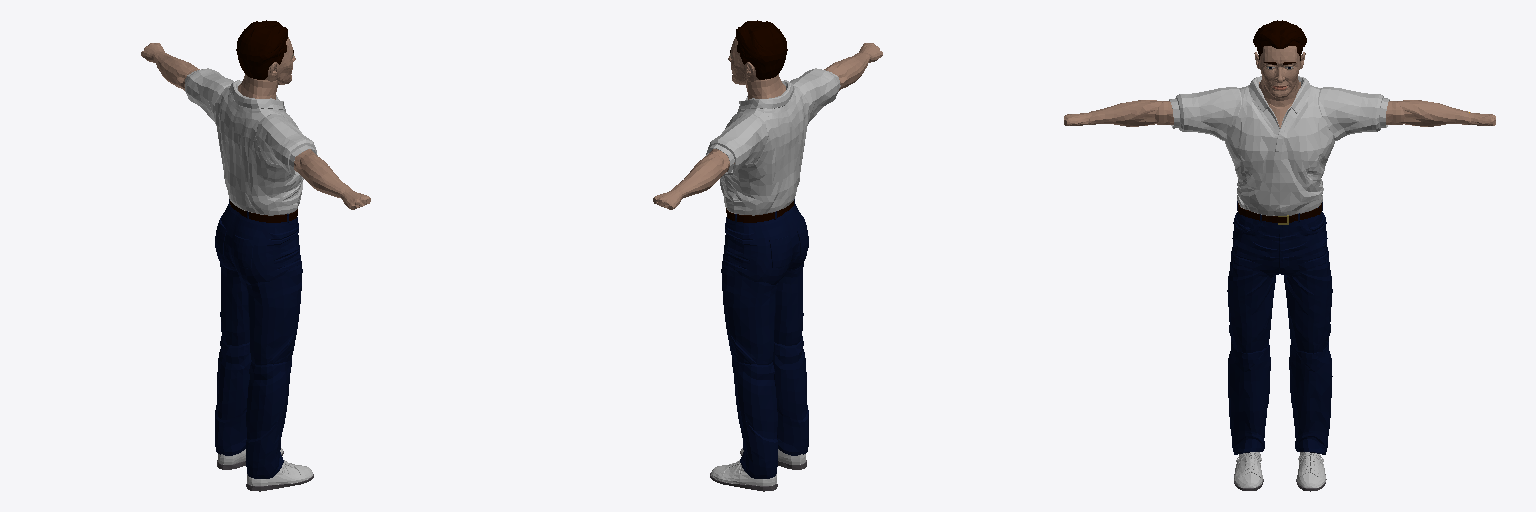
--- Render facts (derived) ---
3 views of the same robot in one strip: view 1: azimuth 30°, elevation 25°; view 2: azimuth 150°, elevation 25°; view 3: azimuth 270°, elevation 25° (orthographic).
Model HUMAN with 34 links and 33 joints (32 revolute, 1 fixed), rooted at base_link, posed every joint at zero.
Links seen in each view (by area): view 1: TorsoLink, HipsLink, RShinLink, RLegLink, LShinLink, HeadLink, RArmLink, LLegLink, LArmLink, RForearmLink, RAnkleLink, LForearmLink; view 2: TorsoLink, HipsLink, LShinLink, LLegLink, RShinLink, HeadLink, LArmLink, RLegLink, RArmLink, LForearmLink, LAnkleLink, RForearmLink; view 3: TorsoLink, HipsLink, RShinLink, LShinLink, LLegLink, RLegLink, HeadLink, RArmLink, LArmLink, LForearmLink, RForearmLink, LAnkleLink (+1 smaller).
Boxes of the visible links, x1,y1,x2,y2 form: TorsoLink: (214, 74, 303, 215); HipsLink: (215, 199, 301, 284); RShinLink: (246, 357, 291, 478); RLegLink: (245, 265, 302, 364); LShinLink: (215, 336, 251, 455); HeadLink: (236, 20, 295, 84); RArmLink: (255, 114, 317, 175); LLegLink: (220, 263, 249, 345); LArmLink: (185, 68, 233, 123); RForearmLink: (296, 153, 351, 198); RAnkleLink: (246, 460, 313, 491); LForearmLink: (153, 52, 196, 90); TorsoLink: (720, 74, 809, 215); HipsLink: (722, 199, 808, 284); LShinLink: (732, 357, 777, 478); LLegLink: (721, 265, 778, 364); RShinLink: (772, 336, 808, 455); HeadLink: (728, 20, 787, 84); LArmLink: (706, 114, 768, 174); RLegLink: (774, 263, 803, 345); RArmLink: (790, 68, 840, 123); LForearmLink: (672, 153, 727, 198); LAnkleLink: (710, 460, 777, 491); RForearmLink: (827, 52, 870, 90); TorsoLink: (1225, 76, 1334, 215); HipsLink: (1231, 201, 1328, 277); RShinLink: (1228, 342, 1270, 454); LShinLink: (1289, 342, 1332, 454); LLegLink: (1284, 255, 1332, 353); RLegLink: (1227, 255, 1275, 353); HeadLink: (1253, 20, 1306, 97); RArmLink: (1169, 87, 1241, 140); LArmLink: (1318, 87, 1389, 140); LForearmLink: (1397, 100, 1470, 126); RForearmLink: (1089, 100, 1162, 126); LAnkleLink: (1296, 452, 1326, 491).
Bounding box of the posed robot: 0.2779 × 1.47 × 1.69 m (x, y, z).
Meshes: 17 distinct files referenced, 17 mesh visuals loaded (17 Collada DAE).

robot.urdf — HUMAN:
<?xml version="1.0" ?>
<robot name="HUMAN" xmlns:xacro="http://ros.org/wiki/xacro">
  
  <link name="base_link"/>

  <joint name="base" type="fixed">
    <parent link="base_link"/>
    <child link="HipsLink"/>
    <origin rpy="0 0 0" xyz="0 0 0.987"/>
  </joint>

  <!-- Body Links -->
  <link name="HipsLink">
    <inertial>
      <origin rpy="0 0 0" xyz="-0.0232 0.0 -0.1192"/>
      <mass value="20.9238"/>
      <inertia ixx="-0.3225" ixy="-0.0" ixz="-0.0" iyy="0.0" iyz="0.2362" izz="0.0"/>
    </inertial>
    <visual>
      <origin rpy="0 0 0" xyz="0 0 0"/>
      <geometry>
        <mesh filename="package://human_description/meshes/HipsLinkFull.dae"/>
      </geometry>
    </visual>
    <collision>
      <origin rpy="0 0 0" xyz="0 0 0"/>
      <geometry>
        <mesh filename="package://human_description/meshes/HipsLinkFull.dae"/>
      </geometry>
    </collision>
  </link>

  <link name="TorsoLink">
    <inertial>
      <origin rpy="0 0 0" xyz="-0.1334 0.1949 0.4701"/>
      <mass value="10.7790"/>
      <inertia ixx="-0.3481" ixy="-0.0" ixz="-0.0" iyy="0.0" iyz="0.2709" izz="0.0"/>
    </inertial>
    <visual>
      <origin rpy="0 0 0" xyz="0 0 0"/>
      <geometry>
        <mesh filename="package://human_description/meshes/TorsoLinkFull.dae"/>
      </geometry>
    </visual>
    <collision>
      <origin rpy="0 0 0" xyz="0 0 0"/>
      <geometry>
        <mesh filename="package://human_description/meshes/TorsoLinkFull.dae"/>
      </geometry>
    </collision>
  </link>

  <link name="HeadLink">
    <inertial>
      <origin rpy="0 0 0" xyz="0.0459 0.0133 0.0433"/>
      <mass value="4.7372"/>
      <inertia ixx="-0.1891" ixy="-0.0" ixz="-0.0" iyy="0.0" iyz="0.1891" izz="0.0"/>
    </inertial>
    <visual>
      <origin rpy="0 0 0" xyz="0 0 0"/>
      <geometry>
        <mesh filename="package://human_description/meshes/HeadLinkFull.dae"/>
      </geometry>
    </visual>
    <collision>
      <origin rpy="0 0 0" xyz="0 0 0"/>
      <geometry>
        <mesh filename="package://human_description/meshes/HeadLinkFull.dae"/>
      </geometry>
    </collision>
  </link>

  <link name="LArmLink">
    <inertial>
      <origin rpy="0 0 0" xyz="-0.0 0.1328 0.0"/>
      <mass value="1.96"/>
      <inertia ixx="-0.3475" ixy="-0.0" ixz="-0.0" iyy="0.0" iyz="0.6719" izz="0.0"/>
    </inertial>
    <visual>
      <origin rpy="0 0 0" xyz="0 0 0"/>
      <geometry>
        <mesh filename="package://human_description/meshes/LArmLinkFull.dae"/>
      </geometry>
    </visual>
    <collision>
      <origin rpy="0 0 0" xyz="0 0 0"/>
      <geometry>
        <mesh filename="package://human_description/meshes/LArmLinkFull.dae"/>
      </geometry>
    </collision>
  </link>

  <link name="LElbowLink">
    <inertial>
      <origin rpy="0 0 0" xyz="0.000513 0.034528 -0.000934"/>
      <mass value="0.25"/>
      <inertia ixx="-5.9e-05" ixy="-0.0" ixz="-0.0" iyy="0.0" iyz="8e-05" izz="0.0"/>
    </inertial>
    <visual>
      <origin rpy="0 0 0" xyz="0 0 0"/>
      <geometry>
        <mesh filename="package://human_description/meshes/LElbowLink.dae"/>
      </geometry>
    </visual>
    <collision>
      <origin rpy="0 0 0" xyz="0 0 0"/>
      <geometry>
        <mesh filename="package://human_description/meshes/LElbowLink.dae"/>
      </geometry>
    </collision>
  </link>

  <link name="LForearmLink">
    <inertial>
      <origin rpy="0 0 0" xyz="-0.0 0.15114 0.0"/>
      <mass value="1.18"/>
      <inertia ixx="-0.0753" ixy="-0.0" ixz="-0.0" iyy="0.0" iyz="0.1326" izz="0.0"/>
    </inertial>
    <visual>
      <origin rpy="0 0 0" xyz="0 0 0"/>
      <geometry>
        <mesh filename="package://human_description/meshes/LForearmLink.dae"/>
      </geometry>
    </visual>
    <collision>
      <origin rpy="0 0 0" xyz="0 0 0"/>
      <geometry>
        <mesh filename="package://human_description/meshes/LForearmLink.dae"/>
      </geometry>
    </collision>
  </link>

  <link name="LHandLink">
    <inertial>
      <origin rpy="0 0 0" xyz="0.0139 0.042 -0.0128"/>
      <mass value="0.272"/>
      <inertia ixx="-0.00029946" ixy="-0.0" ixz="-0.0" iyy="0.0" iyz="0.00019118" izz="0.0"/>
    </inertial>
    <visual>
      <origin rpy="0 0 0" xyz="0 0 0"/>
      <geometry>
        <mesh filename="package://human_description/meshes/LWrist.dae"/>
      </geometry>
    </visual>
    <collision>
      <origin rpy="0 0 0" xyz="0 0 0"/>
      <geometry>
        <mesh filename="package://human_description/meshes/LWrist.dae"/>
      </geometry>
    </collision>
  </link>

  <link name="RArmLink">
    <inertial>
      <origin rpy="0 0 0" xyz="-0.0 -0.1328 0.0"/>
      <mass value="1.96"/>
      <inertia ixx="-0.3475" ixy="-0.0" ixz="-0.0" iyy="0.0" iyz="0.6719" izz="0.0"/>
    </inertial>
    <visual>
      <origin rpy="0 0 0" xyz="0 0 0"/>
      <geometry>
        <mesh filename="package://human_description/meshes/RArmLinkFull.dae"/>
      </geometry>
    </visual>
    <collision>
      <origin rpy="0 0 0" xyz="0 0 0"/>
      <geometry>
        <mesh filename="package://human_description/meshes/RArmLinkFull.dae"/>
      </geometry>
    </collision>
  </link>

  <link name="RElbowLink">
    <inertial>
      <origin rpy="0 0 0" xyz="0.000513 -0.034528 -0.000934"/>
      <mass value="0.25"/>
      <inertia ixx="-5.9e-05" ixy="-0.0" ixz="-0.0" iyy="0.0" iyz="8e-05" izz="0.0"/>
    </inertial>
    <visual>
      <origin rpy="0 0 0" xyz="0 0 0"/>
      <geometry>
        <mesh filename="package://human_description/meshes/RElbowLink.dae"/>
      </geometry>
    </visual>
    <collision>
      <origin rpy="0 0 0" xyz="0 0 0"/>
      <geometry>
        <mesh filename="package://human_description/meshes/RElbowLink.dae"/>
      </geometry>
    </collision>
  </link>

  <link name="RForearmLink">
    <inertial>
      <origin rpy="0 0 0" xyz="-0.0 -0.15114 0.0"/>
      <mass value="1.18"/>
      <inertia ixx="-0.0753" ixy="-0.0" ixz="-0.0" iyy="0.0" iyz="0.1326" izz="0.0"/>
    </inertial>
    <visual>
      <origin rpy="0 0 0" xyz="0 0 0"/>
      <geometry>
        <mesh filename="package://human_description/meshes/RForearmLink.dae"/>
      </geometry>
    </visual>
    <collision>
      <origin rpy="0 0 0" xyz="0 0 0"/>
      <geometry>
        <mesh filename="package://human_description/meshes/RForearmLink.dae"/>
      </geometry>
    </collision>
  </link>

  <link name="RHandLink">
    <inertial>
      <origin rpy="0 0 0" xyz="0.0139 -0.042 -0.0128"/>
      <mass value="0.272"/>
      <inertia ixx="-0.00029946" ixy="-0.0" ixz="-0.0" iyy="0.0" iyz="0.00019118" izz="0.0"/>
    </inertial>
    <visual>
      <origin rpy="0 0 0" xyz="0 0 0"/>
      <geometry>
        <mesh filename="package://human_description/meshes/RWrist.dae"/>
      </geometry>
    </visual>
    <collision>
      <origin rpy="0 0 0" xyz="0 0 0"/>
      <geometry>
        <mesh filename="package://human_description/meshes/RWrist.dae"/>
      </geometry>
    </collision>
  </link>

  <link name="LLegLink">
    <inertial>
      <origin rpy="0 0 0" xyz="-0.0185 -0.0071 -0.178"/>
      <mass value="6.51"/>
      <inertia ixx="-0.1264" ixy="-0.0" ixz="-0.0" iyy="0.0" iyz="0.1264" izz="0.0"/>
    </inertial>
    <visual>
      <origin rpy="0 0 0" xyz="0 0 0"/>
      <geometry>
        <mesh filename="package://human_description/meshes/LLegLink.dae"/>
      </geometry>
    </visual>
    <collision>
      <origin rpy="0 0 0" xyz="0 0 0"/>
      <geometry>
        <mesh filename="package://human_description/meshes/LLegLink.dae"/>
      </geometry>
    </collision>
  </link>

  <link name="LShinLink">
    <inertial>
      <origin rpy="0 0 0" xyz="-0.0131 0.0025 0.0346"/>
      <mass value="3.095"/>
      <inertia ixx="-0.0632" ixy="-0.0" ixz="-0.0" iyy="0.0" iyz="0.0632" izz="0.0"/>
    </inertial>
    <visual>
      <origin rpy="0 0 0" xyz="0 0 0"/>
      <geometry>
        <mesh filename="package://human_description/meshes/LShinLink.dae"/>
      </geometry>
    </visual>
    <collision>
      <origin rpy="0 0 0" xyz="0 0 0"/>
      <geometry>
        <mesh filename="package://human_description/meshes/LShinLink.dae"/>
      </geometry>
    </collision>
  </link>

  <link name="LAnkleLink">
    <inertial>
      <origin rpy="0 0 0" xyz="0.0508 0.0067 -0.0646"/>
      <mass value="0.99"/>
      <inertia ixx="-0.0015" ixy="-0.0" ixz="-0.0" iyy="0.0" iyz="0.0059" izz="0.0"/>
    </inertial>
    <visual>
      <origin rpy="0 0 0" xyz="0 0 0"/>
      <geometry>
        <mesh filename="package://human_description/meshes/LAnkleLinkFull.dae"/>
      </geometry>
    </visual>
    <collision>
      <origin rpy="0 0 0" xyz="0 0 0"/>
      <geometry>
        <mesh filename="package://human_description/meshes/LAnkleLinkFull.dae"/>
      </geometry>
    </collision>
  </link>

  <link name="RLegLink">
    <inertial>
      <origin rpy="0 0 0" xyz="-0.0185 -0.0071 -0.178"/>
      <mass value="6.51"/>
      <inertia ixx="-0.1264" ixy="-0.0" ixz="-0.0" iyy="0.0" iyz="0.1264" izz="0.0"/>
    </inertial>
    <visual>
      <origin rpy="0 0 0" xyz="0 0 0"/>
      <geometry>
        <mesh filename="package://human_description/meshes/RLegLink.dae"/>
      </geometry>
    </visual>
    <collision>
      <origin rpy="0 0 0" xyz="0 0 0"/>
      <geometry>
        <mesh filename="package://human_description/meshes/RLegLink.dae"/>
      </geometry>
    </collision>
  </link>

  <link name="RShinLink">
    <inertial>
      <origin rpy="0 0 0" xyz="-0.0131 0.0025 0.0346"/>
      <mass value="3.095"/>
      <inertia ixx="-0.0632" ixy="-0.0" ixz="-0.0" iyy="0.0" iyz="0.0632" izz="0.0"/>
    </inertial>
    <visual>
      <origin rpy="0 0 0" xyz="0 0 0"/>
      <geometry>
        <mesh filename="package://human_description/meshes/RShinLink.dae"/>
      </geometry>
    </visual>
    <collision>
      <origin rpy="0 0 0" xyz="0 0 0"/>
      <geometry>
        <mesh filename="package://human_description/meshes/RShinLink.dae"/>
      </geometry>
    </collision>
  </link>

  <link name="RAnkleLink">
    <inertial>
      <origin rpy="0 0 0" xyz="0.0508 -0.0067 -0.0646"/>
      <mass value="0.99"/>
      <inertia ixx="-0.0015" ixy="-0.0" ixz="-0.0" iyy="0.0" iyz="0.0059" izz="0.0"/>
    </inertial>
    <visual>
      <origin rpy="0 0 0" xyz="0 0 0"/>
      <geometry>
        <mesh filename="package://human_description/meshes/RAnkleLinkFull.dae"/>
      </geometry>
    </visual>
    <collision>
      <origin rpy="0 0 0" xyz="0 0 0"/>
      <geometry>
        <mesh filename="package://human_description/meshes/RAnkleLinkFull.dae"/>
      </geometry>
    </collision>
  </link>

  <!-- Joints -->

  <!-- Hips to Torso : spherical -->
  <link name="hip2torso_1">
    <inertial>
      <origin rpy="0 0 0" xyz="0.0 0.0 0.0"/>
      <mass value="0.2"/>
      <inertia ixx="0.0000032" ixy="0.0" ixz="0.0" iyy="0.0000032" iyz="0.0" izz="0.0000032"/>
    </inertial>
    <visual>
      <geometry>
        <sphere radius="0.02"/>
      </geometry>
    </visual>
    <collision>
      <geometry>
        <sphere radius="0.02"/>
      </geometry>
    </collision>
  </link>

  <link name="hip2torso_2">
    <inertial>
      <origin rpy="0 0 0" xyz="0.0 0.0 0.0"/>
      <mass value="0.2"/>
      <inertia ixx="0.0000032" ixy="0.0" ixz="0.0" iyy="0.0000032" iyz="0.0" izz="0.0000032"/>
    </inertial>
    <visual>
      <geometry>
        <sphere radius="0.02"/>
      </geometry>
    </visual>
    <collision>
      <geometry>
        <sphere radius="0.02"/>
      </geometry>
    </collision>
  </link>

  <joint name="Torso_0" type="revolute">
    <parent link="HipsLink"/>
    <child link="hip2torso_1"/>
    <origin rpy="0.0 0.0 0.0" xyz="-0.0 0.0 0.0"/>
    <axis xyz="1 0 0"/>
    <limit effort="100" lower="-0.65" upper="0.65" velocity="100"/>
  </joint>

  <joint name="Torso_1" type="revolute">
    <parent link="hip2torso_1"/>
    <child link="hip2torso_2"/>
    <origin rpy="0.0 0.0 0.0" xyz="-0.0 0.0 0.0"/>
    <axis xyz="0 1 0"/>
    <limit effort="100" lower="-0.55" upper="2.9" velocity="100"/>
  </joint>

  <joint name="Torso_2" type="revolute">
    <parent link="hip2torso_2"/>
    <child link="TorsoLink"/>
    <origin rpy="0.0 0.0 0.0" xyz="-0.0 0.0 0.0"/>
    <axis xyz="0 0 1"/>
    <limit effort="100" lower="-0.7" upper="0.7" velocity="100"/>
  </joint>

  <!-- Torso to Head : spherical -->
  <link name="torso2head_1">
    <inertial>
      <origin rpy="0 0 0" xyz="0.0 0.0 0.0"/>
      <mass value="0.05"/>
      <inertia ixx="0.000002" ixy="0.0" ixz="0.0" iyy="0.000002" iyz="0.0" izz="0.000002"/>
    </inertial>
    <visual>
      <geometry>
        <sphere radius="0.01"/>
      </geometry>
    </visual>
    <collision>
      <geometry>
        <sphere radius="0.01"/>
      </geometry>
    </collision>
  </link>

  <link name="torso2head_2">
    <inertial>
      <origin rpy="0 0 0" xyz="0.0 0.0 0.0"/>
      <mass value="0.05"/>
      <inertia ixx="0.000002" ixy="0.0" ixz="0.0" iyy="0.000002" iyz="0.0" izz="0.000002"/>
    </inertial>
    <visual>
      <geometry>
        <sphere radius="0.01"/>
      </geometry>
    </visual>
    <collision>
      <geometry>
        <sphere radius="0.01"/>
      </geometry>
    </collision>
  </link>

  <joint name="Head_0" type="revolute">
    <parent link="TorsoLink"/>
    <child link="torso2head_1"/>
    <origin rpy="0.0 0.0 0.0" xyz="-0.025 0.0 0.525"/>
    <axis xyz="1 0 0"/>
    <limit effort="100" lower="-0.62" upper="0.62" velocity="100"/>
  </joint>

  <joint name="Head_1" type="revolute">
    <parent link="torso2head_1"/>
    <child link="torso2head_2"/>
    <origin rpy="0.0 0.0 0.0" xyz="-0.0 0.0 0.0"/>
    <axis xyz="0 1 0"/>
    <limit effort="100" lower="-0.45" upper="0.45" velocity="100"/>
  </joint>

  <joint name="Head_2" type="revolute">
    <parent link="torso2head_2"/>
    <child link="HeadLink"/>
    <origin rpy="0.0 0.0 0.0" xyz="-0.0 0.0 0.0"/>
    <axis xyz="0 0 1"/>
    <limit effort="100" lower="-1.1" upper="1.1" velocity="100"/>
  </joint>

  <!-- Torso to left Shoulder : spherical -->
  <link name="torso2lshoulder_1">
    <inertial>
      <origin rpy="0 0 0" xyz="0.0 0.0 0.0"/>
      <mass value="0.2"/>
      <inertia ixx="0.0000032" ixy="0.0" ixz="0.0" iyy="0.0000032" iyz="0.0" izz="0.0000032"/>
    </inertial>
    <visual>
      <geometry>
        <sphere radius="0.02"/>
      </geometry>
    </visual>
    <collision>
      <geometry>
        <sphere radius="0.02"/>
      </geometry>
    </collision>
  </link>

  <link name="torso2lshoulder_2">
    <inertial>
      <origin rpy="0 0 0" xyz="0.0 0.0 0.0"/>
      <mass value="0.2"/>
      <inertia ixx="0.0000032" ixy="0.0" ixz="0.0" iyy="0.0000032" iyz="0.0" izz="0.0000032"/>
    </inertial>
    <visual>
      <geometry>
        <sphere radius="0.02"/>
      </geometry>
    </visual>
    <collision>
      <geometry>
        <sphere radius="0.02"/>
      </geometry>
    </collision>
  </link>

  <joint name="LArm_0" type="revolute">
    <parent link="TorsoLink"/>
    <child link="torso2lshoulder_1"/>
    <origin rpy="0.0 0.0 0.0" xyz="-0.05 0.15 0.35"/>
    <axis xyz="1 0 0"/>
    <limit effort="100" lower="-1.42" upper="1.57" velocity="100"/>
  </joint>

  <joint name="LArm_1" type="revolute">
    <parent link="torso2lshoulder_1"/>
    <child link="torso2lshoulder_2"/>
    <origin rpy="0.0 0.0 0.0" xyz="-0.0 0.0 0.0"/>
    <axis xyz="0 1 0"/>
    <limit effort="100" lower="-1.2" upper="1.2" velocity="100"/>
  </joint>

  <joint name="LArm_2" type="revolute">
    <parent link="torso2lshoulder_2"/>
    <child link="LArmLink"/>
    <origin rpy="0.0 0.0 0.0" xyz="-0.0 0.0 0.0"/>
    <axis xyz="0 0 1"/>
    <limit effort="100" lower="-2.25" upper="0.78" velocity="100"/>
  </joint>


  <joint name="LElbow" type="revolute">
    <parent link="LArmLink"/>
    <child link="LElbowLink"/>
    <origin rpy="0.0 0.0 0.0" xyz="-0.0 0.2 0.0"/>
    <axis xyz="0 1 0"/>
    <limit effort="100" lower="-1.57" upper="1.0" velocity="100"/>
  </joint>


  <joint name="LForearm" type="revolute">
    <parent link="LElbowLink"/>
    <child link="LForearmLink"/>
    <origin rpy="0.0 0.0 0.0" xyz="-0.01 0.05 0.0"/>
    <axis xyz="0 0 1"/>
    <limit effort="100" lower="-2.5" upper="0.0" velocity="100"/>
  </joint>


  <!-- Forearm to left Wrist connection-->
  <link name="forearm2lwrist_1">
    <inertial>
      <origin rpy="0 0 0" xyz="0.0 0.0 0.0"/>
      <mass value="0.05"/>
      <inertia ixx="0.000002" ixy="0.0" ixz="0.0" iyy="0.000002" iyz="0.0" izz="0.000002"/>
    </inertial>
    <visual>
      <geometry>
        <sphere radius="0.01"/>
      </geometry>
    </visual>
    <collision>
      <geometry>
        <sphere radius="0.01"/>
      </geometry>
    </collision>
  </link>

  <joint name="LWrist_0" type="revolute">
    <parent link="LForearmLink"/>
    <child link="forearm2lwrist_1"/>
    <origin rpy="0.0 0.0 0.0" xyz="0.01 0.24 -0.01"/>
    <axis xyz="1 0 0"/>
    <limit effort="100" lower="-1.5" upper="1.5" velocity="100"/>
  </joint>

  <joint name="LWrist_1" type="revolute">
    <parent link="forearm2lwrist_1"/>
    <child link="LHandLink"/>
    <origin rpy="0.0 0.0 0.0" xyz="0.0 0.0 0.0"/>
    <axis xyz="0 0 1"/>
    <limit effort="100" lower="-0.35" upper="0.35" velocity="100"/>
  </joint>


  <!-- Torso to right Shoulder : spherical -->
  <link name="torso2rshoulder_1">
    <inertial>
      <origin rpy="0 0 0" xyz="0.0 0.0 0.0"/>
      <mass value="0.2"/>
      <inertia ixx="0.0000032" ixy="0.0" ixz="0.0" iyy="0.0000032" iyz="0.0" izz="0.0000032"/>
    </inertial>
    <visual>
      <geometry>
        <sphere radius="0.02"/>
      </geometry>
    </visual>
    <collision>
      <geometry>
        <sphere radius="0.02"/>
      </geometry>
    </collision>
  </link>

  <link name="torso2rshoulder_2">
    <inertial>
      <origin rpy="0 0 0" xyz="0.0 0.0 0.0"/>
      <mass value="0.2"/>
      <inertia ixx="0.0000032" ixy="0.0" ixz="0.0" iyy="0.0000032" iyz="0.0" izz="0.0000032"/>
    </inertial>
    <visual>
      <geometry>
        <sphere radius="0.02"/>
      </geometry>
    </visual>
    <collision>
      <geometry>
        <sphere radius="0.02"/>
      </geometry>
    </collision>
  </link>

  <joint name="RArm_0" type="revolute">
    <parent link="TorsoLink"/>
    <child link="torso2rshoulder_1"/>
    <origin rpy="0.0 0.0 0.0" xyz="-0.05 -0.15 0.35"/>
    <axis xyz="1 0 0"/>
    <limit effort="100" lower="-1.42" upper="1.57" velocity="100"/>
  </joint>

  <joint name="RArm_1" type="revolute">
    <parent link="torso2rshoulder_1"/>
    <child link="torso2rshoulder_2"/>
    <origin rpy="0.0 0.0 0.0" xyz="-0.0 0.0 0.0"/>
    <axis xyz="0 1 0"/>
    <limit effort="100" lower="-1.2" upper="1.2" velocity="100"/>
  </joint>

  <joint name="RArm_2" type="revolute">
    <parent link="torso2rshoulder_2"/>
    <child link="RArmLink"/>
    <origin rpy="0.0 0.0 0.0" xyz="-0.0 0.0 0.0"/>
    <axis xyz="0 0 1"/>
    <limit effort="100" lower="-2.25" upper="0.78" velocity="100"/>
  </joint>


  <joint name="RElbow" type="revolute">
    <parent link="RArmLink"/>
    <child link="RElbowLink"/>
    <origin rpy="0.0 0.0 0.0" xyz="-0.0 -0.2 0.0"/>
    <axis xyz="0 1 0"/>
    <limit effort="100" lower="-1.57" upper="1.0" velocity="100"/>
  </joint>


  <joint name="RForearm" type="revolute">
    <parent link="RElbowLink"/>
    <child link="RForearmLink"/>
    <origin rpy="0.0 0.0 0.0" xyz="-0.01 -0.05 0.0"/>
    <axis xyz="0 0 1"/>
    <limit effort="100" lower="0.0" upper="2.5" velocity="100"/>
  </joint>


  <!-- Forearm to right Wrist connection-->
  <link name="forearm2rwrist_1">
    <inertial>
      <origin rpy="0 0 0" xyz="0.0 0.0 0.0"/>
      <mass value="0.05"/>
      <inertia ixx="0.000002" ixy="0.0" ixz="0.0" iyy="0.000002" iyz="0.0" izz="0.000002"/>
    </inertial>
    <visual>
      <geometry>
        <sphere radius="0.01"/>
      </geometry>
    </visual>
    <collision>
      <geometry>
        <sphere radius="0.01"/>
      </geometry>
    </collision>
  </link>

  <joint name="RWrist_0" type="revolute">
    <parent link="RForearmLink"/>
    <child link="forearm2rwrist_1"/>
    <origin rpy="0.0 0.0 0.0" xyz="0.01 -0.24 -0.01"/>
    <axis xyz="1 0 0"/>
    <limit effort="100" lower="-1.5" upper="1.5" velocity="100"/>
  </joint>

  <joint name="RWrist_1" type="revolute">
    <parent link="forearm2rwrist_1"/>
    <child link="RHandLink"/>
    <origin rpy="0.0 0.0 0.0" xyz="0.0 0.0 0.0"/>
    <axis xyz="0 0 1"/>
    <limit effort="100" lower="-0.35" upper="0.35" velocity="100"/>
  </joint>


  <!-- Torso to left Leg : spherical -->
  <link name="torso2lleg_1">
    <inertial>
      <origin rpy="0 0 0" xyz="0.0 0.0 0.0"/>
      <mass value="0.2"/>
      <inertia ixx="0.0000032" ixy="0.0" ixz="0.0" iyy="0.0000032" iyz="0.0" izz="0.0000032"/>
    </inertial>
    <visual>
      <geometry>
        <sphere radius="0.02"/>
      </geometry>
    </visual>
    <collision>
      <geometry>
        <sphere radius="0.02"/>
      </geometry>
    </collision>
  </link>

  <link name="torso2lleg_2">
    <inertial>
      <origin rpy="0 0 0" xyz="0.0 0.0 0.0"/>
      <mass value="0.2"/>
      <inertia ixx="0.0000032" ixy="0.0" ixz="0.0" iyy="0.0000032" iyz="0.0" izz="0.0000032"/>
    </inertial>
    <visual>
      <geometry>
        <sphere radius="0.02"/>
      </geometry>
    </visual>
    <collision>
      <geometry>
        <sphere radius="0.02"/>
      </geometry>
    </collision>
  </link>

  <joint name="LLeg_0" type="revolute">
    <parent link="HipsLink"/>
    <child link="torso2lleg_1"/>
    <origin rpy="0.0 0.0 0.0" xyz="-0.0 0.1 -0.15"/>
    <axis xyz="1 0 0"/>
    <limit effort="100" lower="-0.52" upper="0.87" velocity="100"/>
  </joint>

  <joint name="LLeg_1" type="revolute">
    <parent link="torso2lleg_1"/>
    <child link="torso2lleg_2"/>
    <origin rpy="0.0 0.0 0.0" xyz="0.0 0.0 0.0"/>
    <axis xyz="0 1 0"/>
    <limit effort="100" lower="-2.3" upper="0.52" velocity="100"/>
  </joint>

  <joint name="LLeg_2" type="revolute">
    <parent link="torso2lleg_2"/>
    <child link="LLegLink"/>
    <origin rpy="0.0 0.0 0.0" xyz="0.0 0.0 0.0"/>
    <axis xyz="0 0 1"/>
    <limit effort="100" lower="-0.8" upper="0.8" velocity="100"/>
  </joint>


  <joint name="LShin_0" type="revolute">
    <parent link="LLegLink"/>
    <child link="LShinLink"/>
    <origin rpy="0.0 0.0 0.0" xyz="-0.025 0.0 -0.35"/>
    <axis xyz="0 1 0"/>
    <limit effort="100" lower="0.0" upper="2.6" velocity="100"/>
  </joint>

  <!-- Shin to left Ankle : 2DoF -->
  <link name="shin2lankle_1">
    <inertial>
      <origin rpy="0 0 0" xyz="0.0 0.0 0.0"/>
      <mass value="0.2"/>
      <inertia ixx="0.0000032" ixy="0.0" ixz="0.0" iyy="0.0000032" iyz="0.0" izz="0.0000032"/>
    </inertial>
    <visual>
      <geometry>
        <sphere radius="0.02"/>
      </geometry>
    </visual>
    <collision>
      <geometry>
        <sphere radius="0.02"/>
      </geometry>
    </collision>
  </link>

  <joint name="LAnkle_0" type="revolute">
    <parent link="LShinLink"/>
    <child link="shin2lankle_1"/>
    <origin rpy="0.0 0.0 0.0" xyz="-0.025 0.0 -0.375"/>
    <axis xyz="0 1 0"/>
    <limit effort="100" lower="-0.78" upper="1.3" velocity="100"/>
  </joint>

  <joint name="LAnkle_1" type="revolute">
    <parent link="shin2lankle_1"/>
    <child link="LAnkleLink"/>
    <origin rpy="0.0 0.0 0.0" xyz="0.0 0.0 0.0"/>
    <axis xyz="1 0 0"/>
    <limit effort="100" lower="-0.5" upper="0.5" velocity="100"/>
  </joint>


  <!-- Torso to right Leg : spherical -->
  <link name="torso2rleg_1">
    <inertial>
      <origin rpy="0 0 0" xyz="0.0 0.0 0.0"/>
      <mass value="0.2"/>
      <inertia ixx="0.0000032" ixy="0.0" ixz="0.0" iyy="0.0000032" iyz="0.0" izz="0.0000032"/>
    </inertial>
    <visual>
      <geometry>
        <sphere radius="0.02"/>
      </geometry>
    </visual>
    <collision>
      <geometry>
        <sphere radius="0.02"/>
      </geometry>
    </collision>
  </link>

  <link name="torso2rleg_2">
    <inertial>
      <origin rpy="0 0 0" xyz="0.0 0.0 0.0"/>
      <mass value="0.2"/>
      <inertia ixx="0.0000032" ixy="0.0" ixz="0.0" iyy="0.0000032" iyz="0.0" izz="0.0000032"/>
    </inertial>
    <visual>
      <geometry>
        <sphere radius="0.02"/>
      </geometry>
    </visual>
    <collision>
      <geometry>
        <sphere radius="0.02"/>
      </geometry>
    </collision>
  </link>

  <joint name="RLeg_0" type="revolute">
    <parent link="HipsLink"/>
    <child link="torso2rleg_1"/>
    <origin rpy="0.0 0.0 0.0" xyz="-0.0 -0.1 -0.15"/>
    <axis xyz="1 0 0"/>
    <limit effort="100" lower="-0.87" upper="0.52" velocity="100"/>
  </joint>

  <joint name="RLeg_1" type="revolute">
    <parent link="torso2rleg_1"/>
    <child link="torso2rleg_2"/>
    <origin rpy="0.0 0.0 0.0" xyz="0.0 0.0 0.0"/>
    <axis xyz="0 1 0"/>
    <limit effort="100" lower="-2.3" upper="0.52" velocity="100"/>
  </joint>

  <joint name="RLeg_2" type="revolute">
    <parent link="torso2rleg_2"/>
    <child link="RLegLink"/>
    <origin rpy="0.0 0.0 0.0" xyz="0.0 0.0 0.0"/>
    <axis xyz="0 0 1"/>
    <limit effort="100" lower="-0.8" upper="0.8" velocity="100"/>
  </joint>


  <joint name="RShin_0" type="revolute">
    <parent link="RLegLink"/>
    <child link="RShinLink"/>
    <origin rpy="0.0 0.0 0.0" xyz="-0.025 0.0 -0.35"/>
    <axis xyz="0 1 0"/>
    <limit effort="100" lower="0.0" upper="2.6" velocity="100"/>
  </joint>

  <!-- Shin to right Ankle : 2DoF -->
  <link name="shin2rankle_1">
    <inertial>
      <origin rpy="0 0 0" xyz="0.0 0.0 0.0"/>
      <mass value="0.2"/>
      <inertia ixx="0.0000032" ixy="0.0" ixz="0.0" iyy="0.0000032" iyz="0.0" izz="0.0000032"/>
    </inertial>
    <visual>
      <geometry>
        <sphere radius="0.02"/>
      </geometry>
    </visual>
    <collision>
      <geometry>
        <sphere radius="0.02"/>
      </geometry>
    </collision>
  </link>

  <joint name="RAnkle_0" type="revolute">
    <parent link="RShinLink"/>
    <child link="shin2rankle_1"/>
    <origin rpy="0.0 0.0 0.0" xyz="-0.025 0.0 -0.375"/>
    <axis xyz="0 1 0"/>
    <limit effort="100" lower="-0.78" upper="1.3" velocity="100"/>
  </joint>

  <joint name="RAnkle_1" type="revolute">
    <parent link="shin2rankle_1"/>
    <child link="RAnkleLink"/>
    <origin rpy="0.0 0.0 0.0" xyz="0.0 0.0 0.0"/>
    <axis xyz="1 0 0"/>
    <limit effort="100" lower="-0.5" upper="0.5" velocity="100"/>
  </joint>

</robot>
